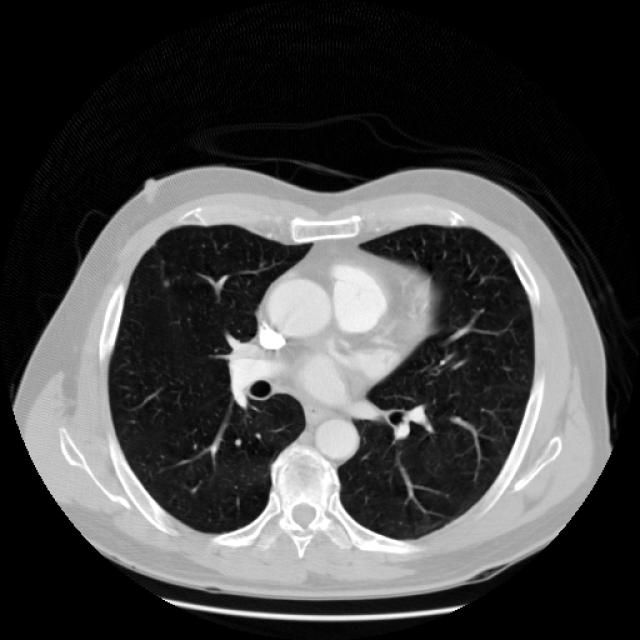nodule: (154, 271, 176, 294)
